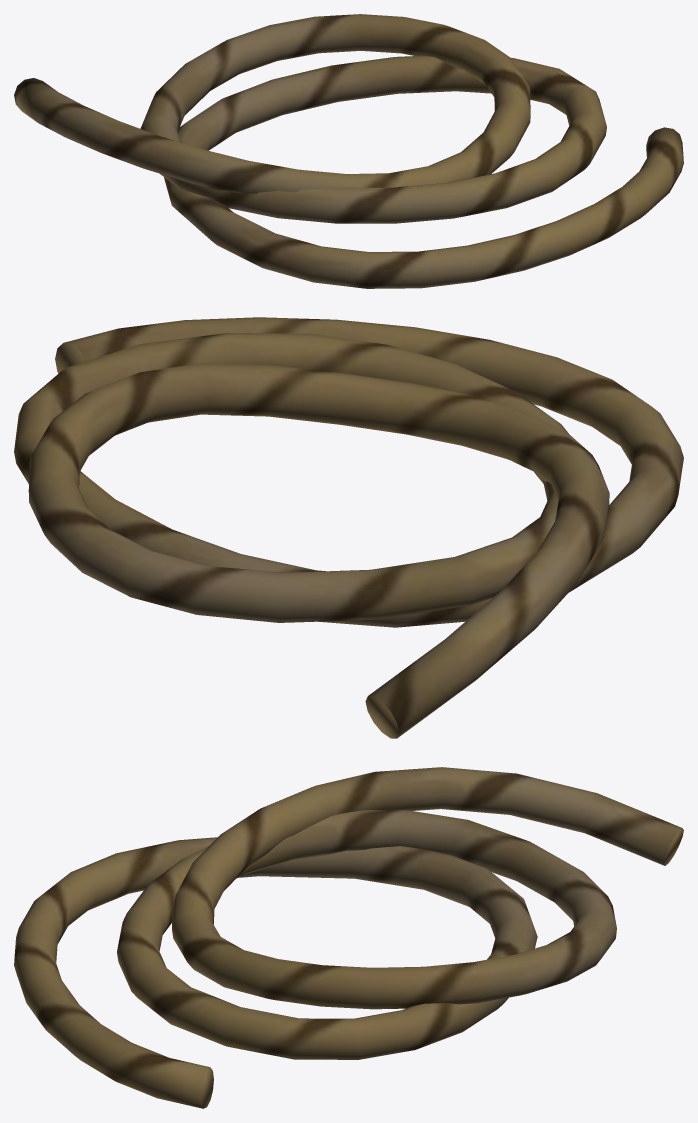
Rendered from Rope_2.gltf.
3 renders of one model, top to bottom at view 1: azimuth 30°, elevation 25°; view 2: azimuth 150°, elevation 25°; view 3: azimuth 270°, elevation 25°, orthographic. The views are drawn at different scales.
Visible parts, largest first — view 1: Rope_2; view 2: Rope_2; view 3: Rope_2.
Part boxes in pixels (x1,y1,x2,y2): Rope_2: (14, 14, 683, 288); Rope_2: (14, 317, 683, 738); Rope_2: (14, 767, 683, 1108).
Size of the model in its own units: 0.8078 by 0.1236 by 0.845.
Materials: 1 (1 with a texture image).
